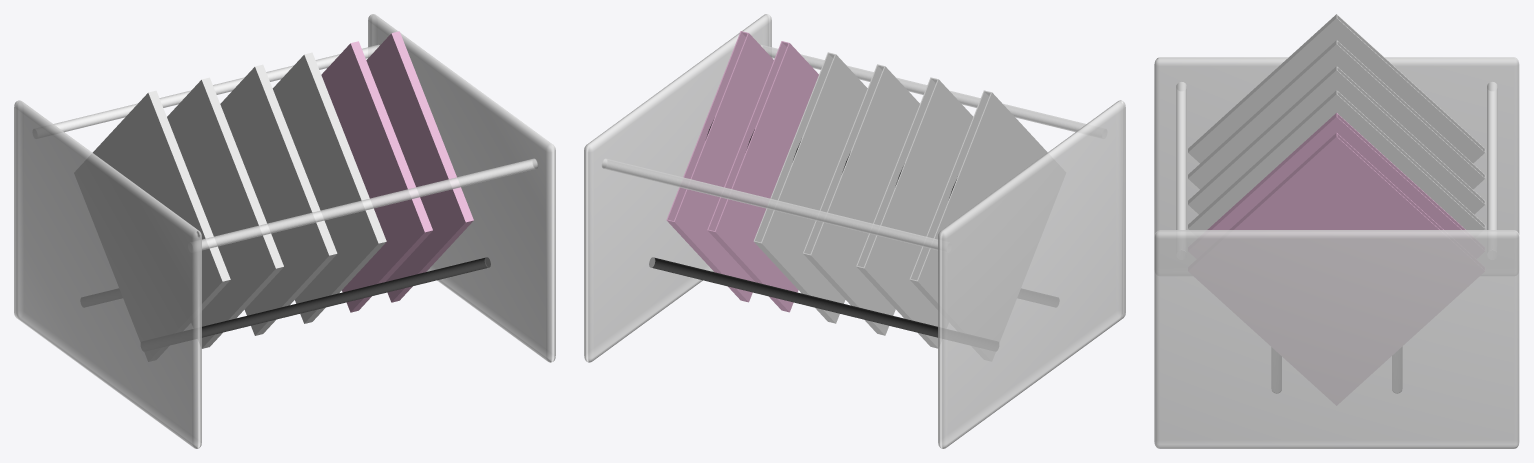
The picture shows the model from 3 angles, left to right: view 1: azimuth 30°, elevation 25°; view 2: azimuth 150°, elevation 25°; view 3: azimuth 270°, elevation 25°; orthographic projection.
Visible parts, largest first — view 1: Cube, LP_Cover_4, LP_Cover_5, LP_Cover_3, LP_Cover_2, LP_Cover_1, LP_Cover_6, Cylinder.001, Cylinder.002; view 2: Cube, LP_Cover_4, LP_Cover_5, LP_Cover_3, LP_Cover_2, LP_Cover_1, LP_Cover_6, Cylinder.001, Cylinder.002; view 3: Cube, LP_Cover_1, LP_Cover_6, LP_Cover_5, LP_Cover_4, LP_Cover_3, LP_Cover_2, Cylinder.001.
Part boxes in pixels (x1,y1,x2,y2): Cube: (14, 14, 555, 448); LP_Cover_4: (220, 64, 337, 335); LP_Cover_5: (167, 77, 283, 348); LP_Cover_3: (272, 52, 386, 323); LP_Cover_2: (321, 41, 432, 312); LP_Cover_1: (366, 31, 473, 302); LP_Cover_6: (92, 90, 230, 310); Cylinder.001: (53, 44, 537, 250); Cylinder.002: (202, 257, 490, 337); Cube: (584, 14, 1125, 448); LP_Cover_4: (803, 64, 919, 335); LP_Cover_5: (856, 77, 973, 348); LP_Cover_3: (753, 52, 867, 323); LP_Cover_2: (707, 41, 818, 312); LP_Cover_1: (666, 31, 773, 302); LP_Cover_6: (909, 90, 1047, 309); Cylinder.001: (602, 44, 1086, 250); Cylinder.002: (649, 257, 937, 337); Cube: (1154, 57, 1519, 448); LP_Cover_1: (1229, 132, 1443, 229); LP_Cover_6: (1188, 14, 1485, 163); LP_Cover_5: (1188, 40, 1485, 189); LP_Cover_4: (1188, 66, 1485, 214); LP_Cover_3: (1188, 90, 1485, 229); LP_Cover_2: (1207, 113, 1465, 229); Cylinder.001: (1176, 82, 1497, 259).
Size of the model in its own units: 2.3 by 1.7 by 2.
Materials: 6 (1 with a texture image).
